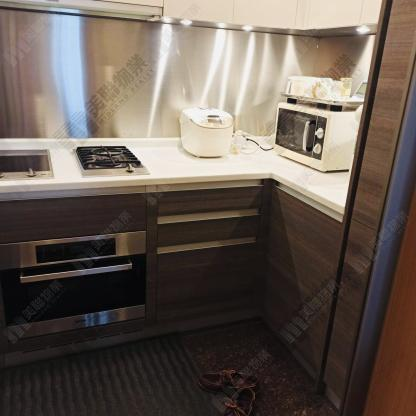Microwave: (272, 101, 357, 173)
Oven: (1, 231, 146, 341)
Stove: (67, 138, 161, 184)
